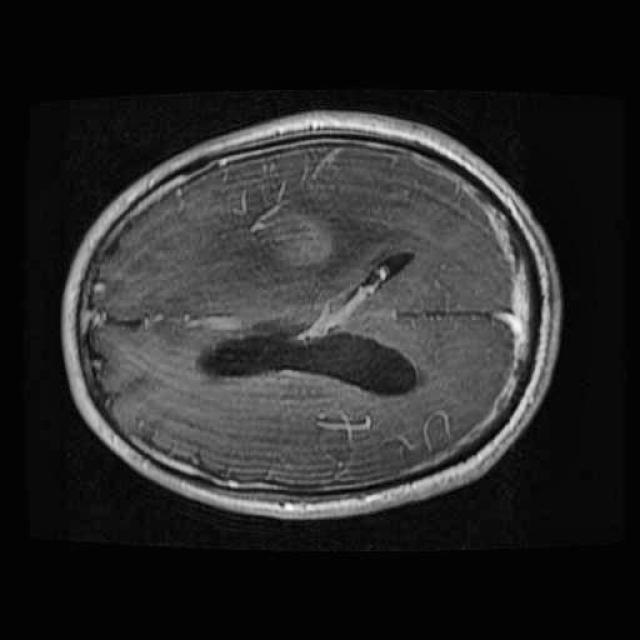Non-Tumor: (244, 194, 344, 288)
